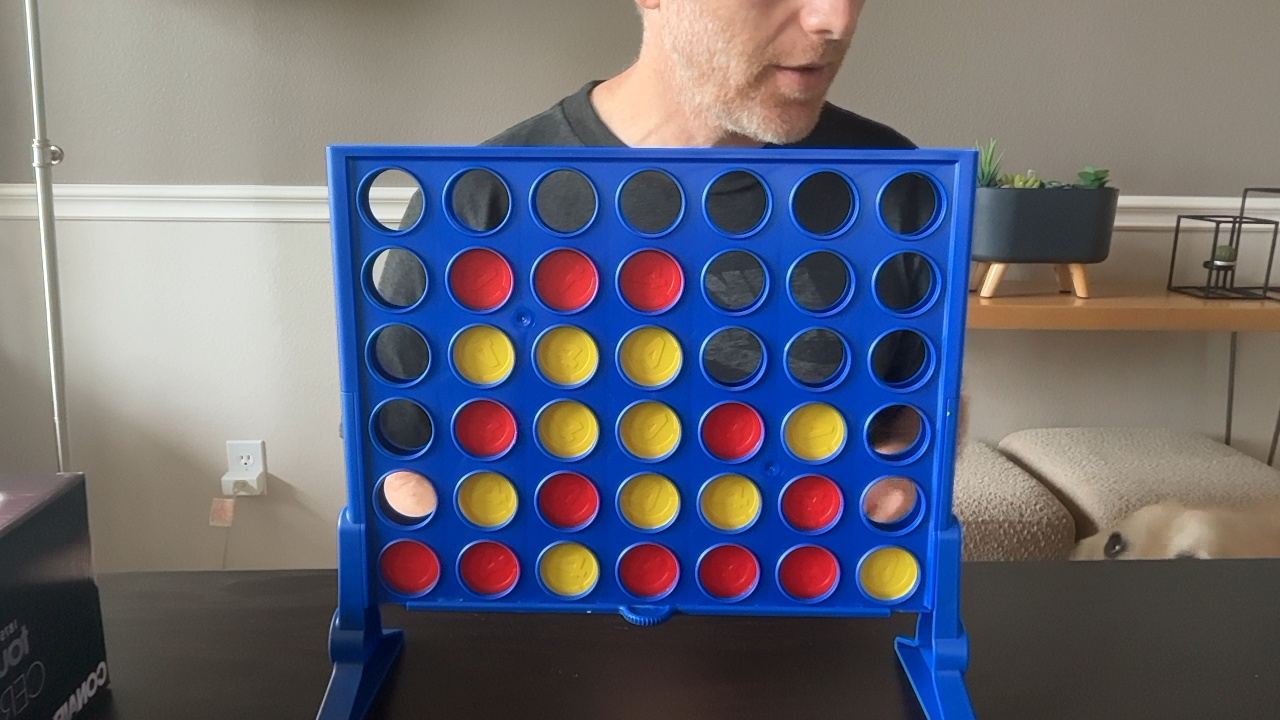red piece: (448, 248, 513, 311), (619, 249, 683, 312), (534, 248, 597, 311), (701, 402, 763, 461), (454, 399, 516, 458), (537, 472, 599, 529), (781, 475, 842, 531), (618, 543, 678, 599), (698, 545, 759, 600), (459, 541, 518, 596), (778, 546, 838, 600), (380, 540, 439, 594)
yellow piece: (618, 326, 682, 387), (535, 325, 598, 386), (452, 325, 514, 386), (784, 403, 846, 461), (537, 401, 598, 459), (619, 401, 680, 459), (700, 474, 761, 531), (457, 471, 517, 528), (619, 473, 679, 529), (539, 542, 599, 597), (859, 547, 919, 601)
